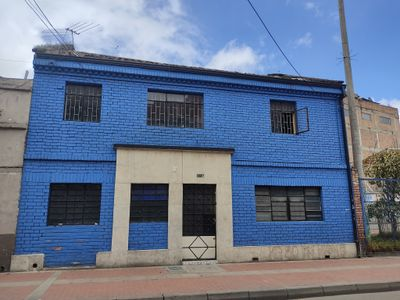House: (21, 37, 361, 262)
